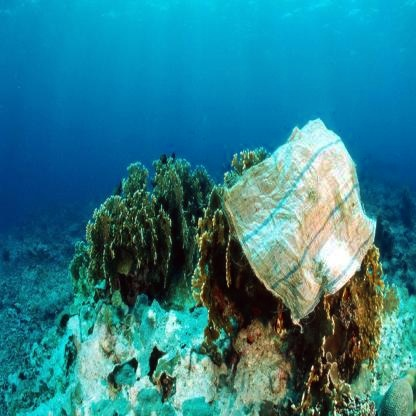misc: (218, 108, 383, 319)
